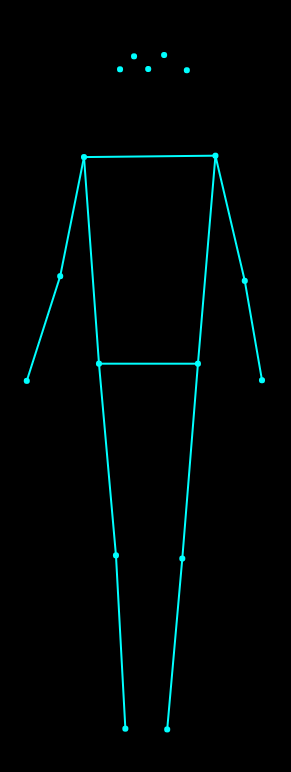mountain: (17, 47, 267, 740)
